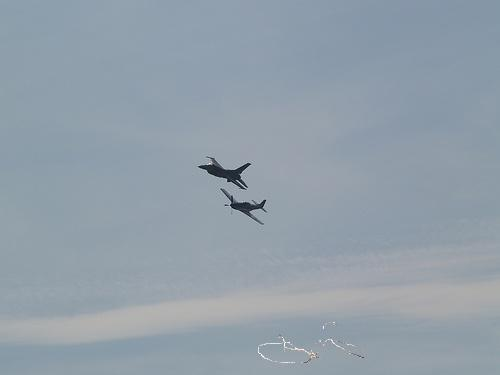tampered: (259, 323, 364, 363)
